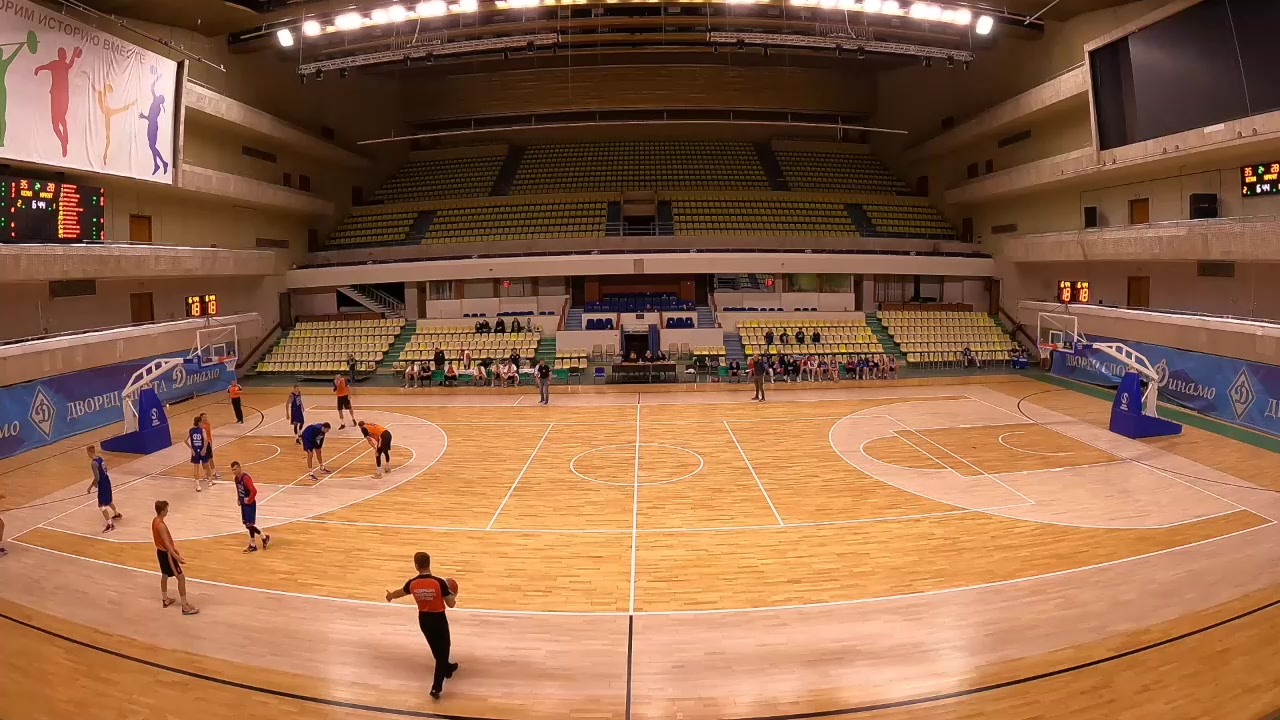basketball: (310, 509, 342, 538)
